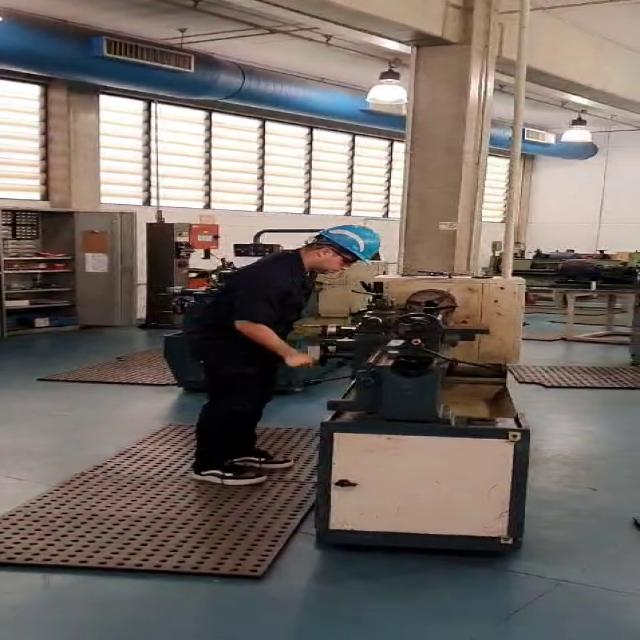oculos-epi: (315, 248, 356, 266)
